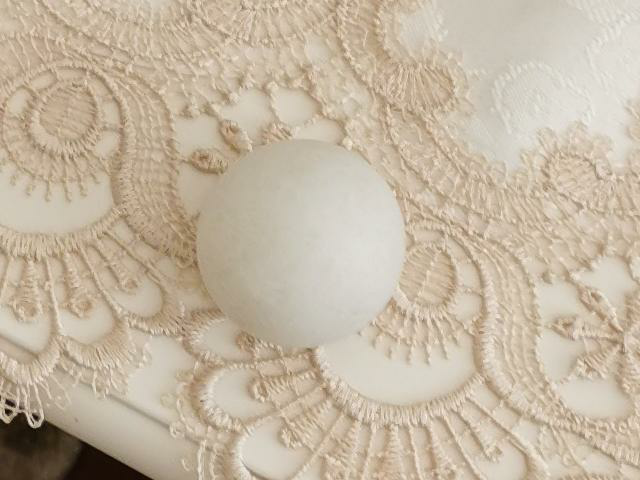ball: (194, 138, 409, 351)
